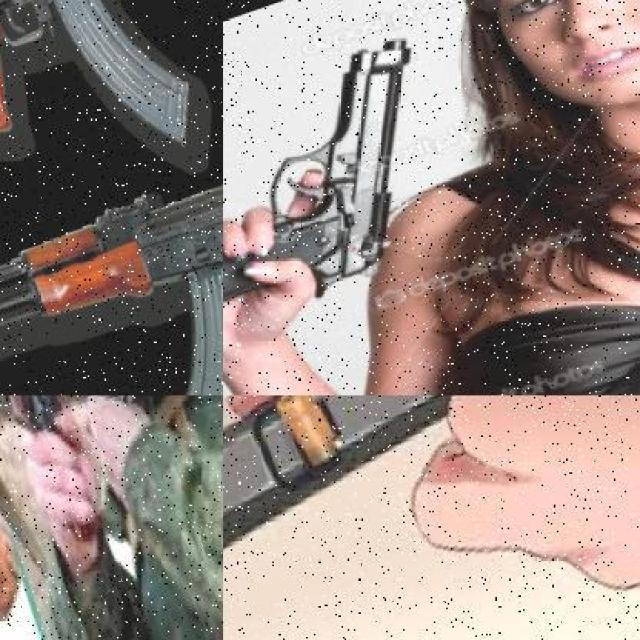weapon: (218, 25, 438, 328), (3, 156, 224, 389), (51, 11, 196, 161)
